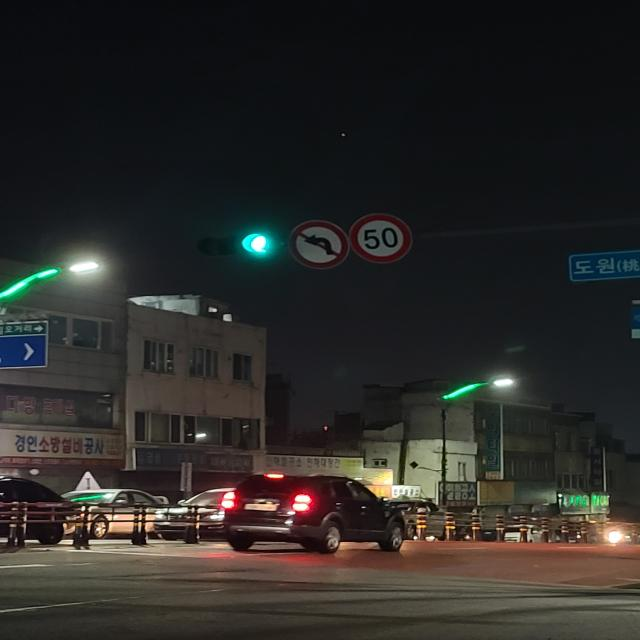Green Light: (237, 232, 274, 258)
